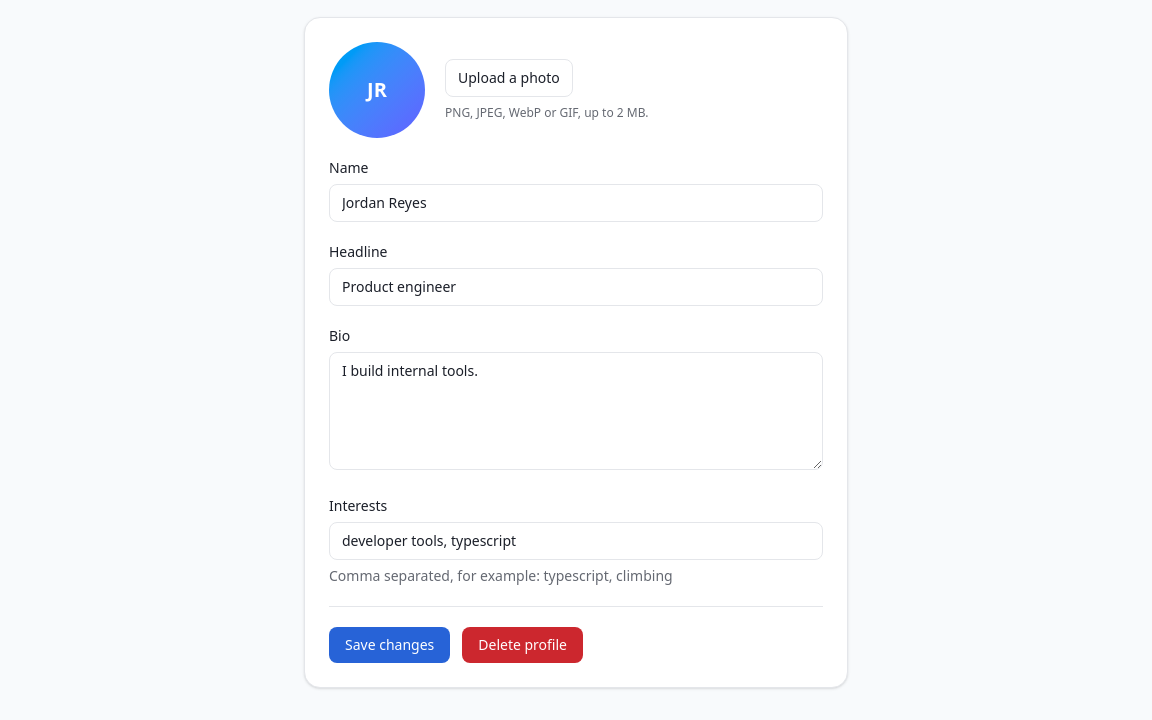
it: profile page › clears the form after a confirmed delete
The image size is (1152, 720).
(page scrolled)
Expected: the field showing "Jordan Reyes" is shown, [329,184,823,222]
Click the button "Delete profile" at [523, 645], box [462,627,583,663]
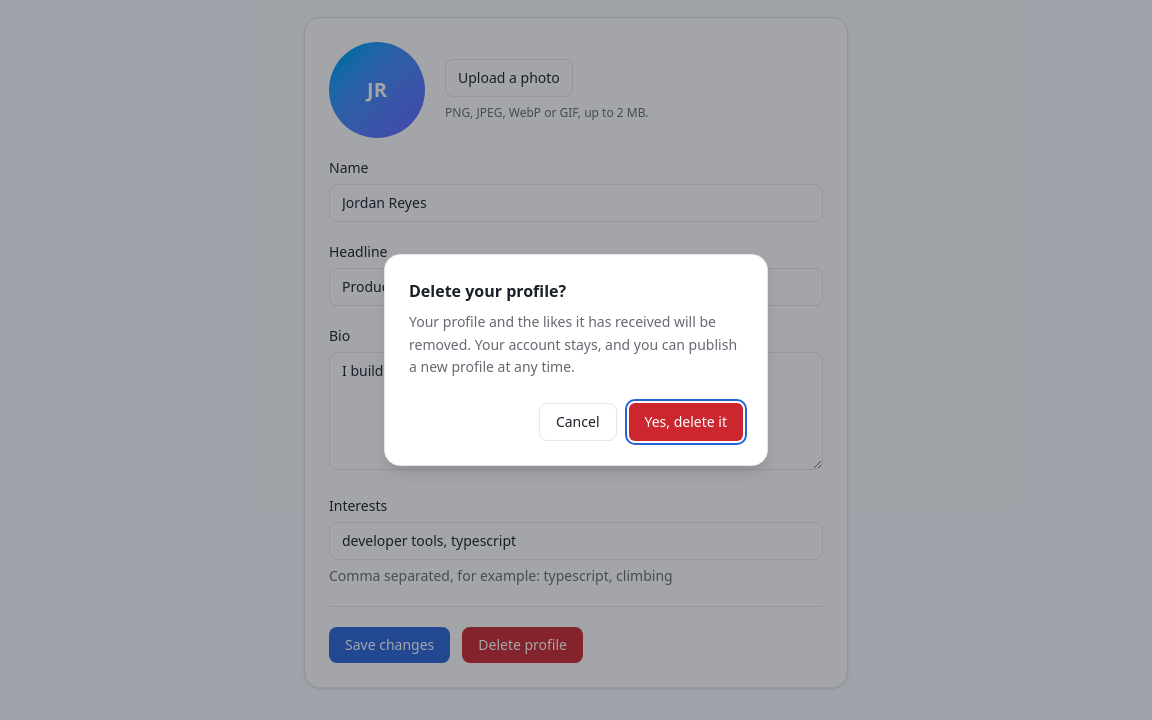
Click the button "Yes, delete it" at [686, 422], box [628,403,743,441]
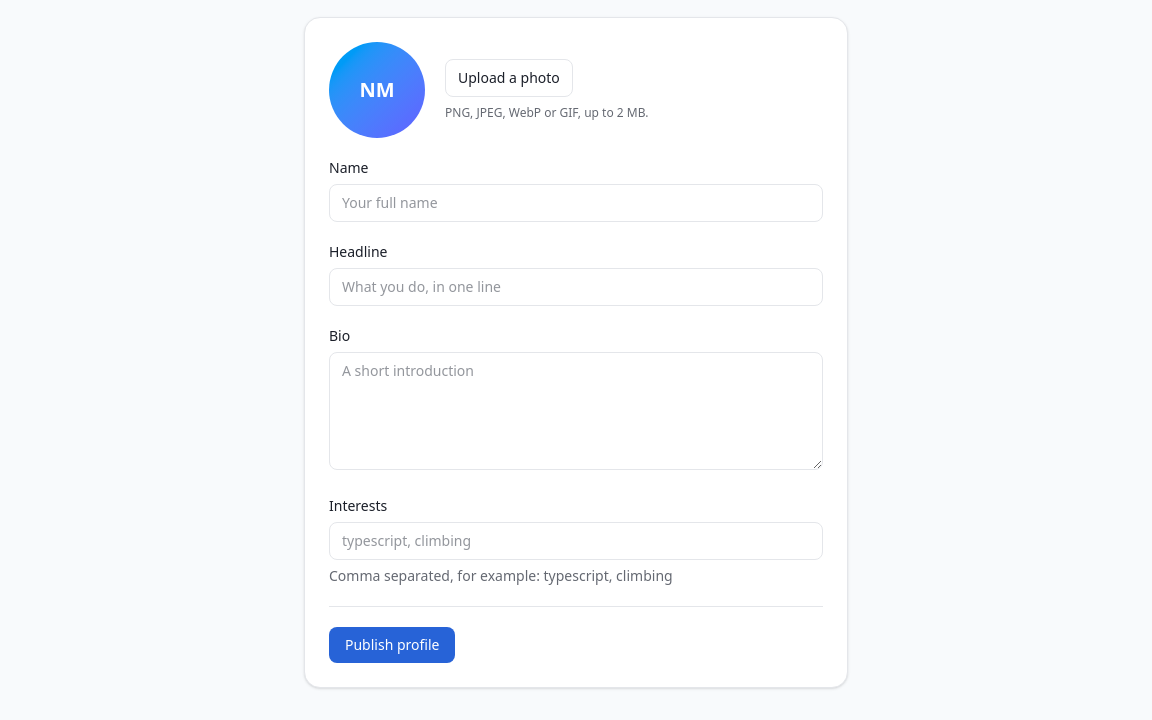
Expected: the field labelled "Name" is empty, [329,184,823,222]
Expected: the button "Publish profile" is shown, [329,627,456,663]
